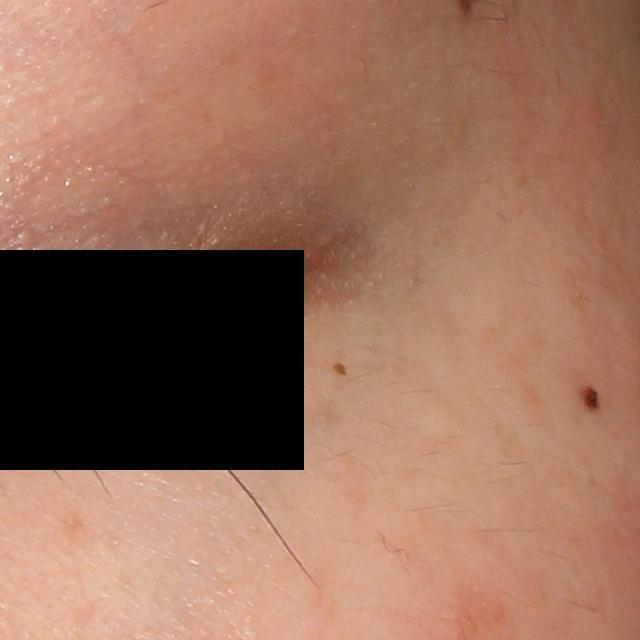melasma: (55, 504, 91, 548)
nevus: (578, 379, 603, 411), (331, 360, 349, 377)
